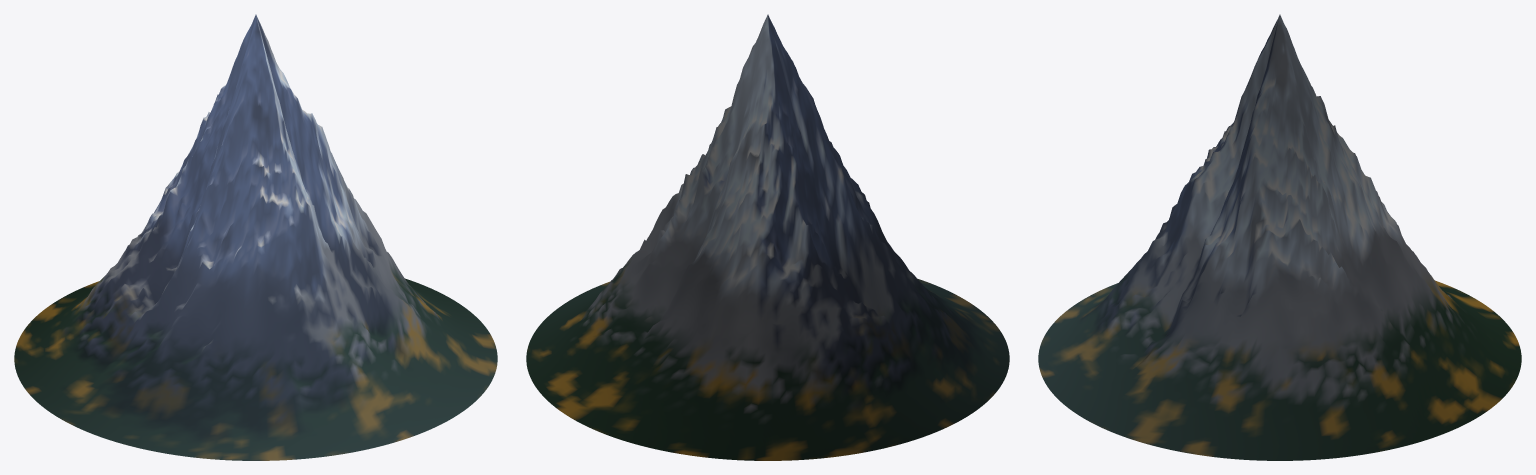
3 views of the same model, side by side, from view 1: azimuth 30°, elevation 25°; view 2: azimuth 150°, elevation 25°; view 3: azimuth 270°, elevation 25° (orthographic).
Visible parts, largest first — view 1: L4_3_Peak1; view 2: L4_3_Peak1; view 3: L4_3_Peak1.
Boxes of the visible parts, bbox=[...] form: L4_3_Peak1: bbox=[14, 14, 497, 460]; L4_3_Peak1: bbox=[526, 14, 1009, 460]; L4_3_Peak1: bbox=[1038, 14, 1521, 460].
Bounding box in the file's own units: 940 × 740 × 940.
